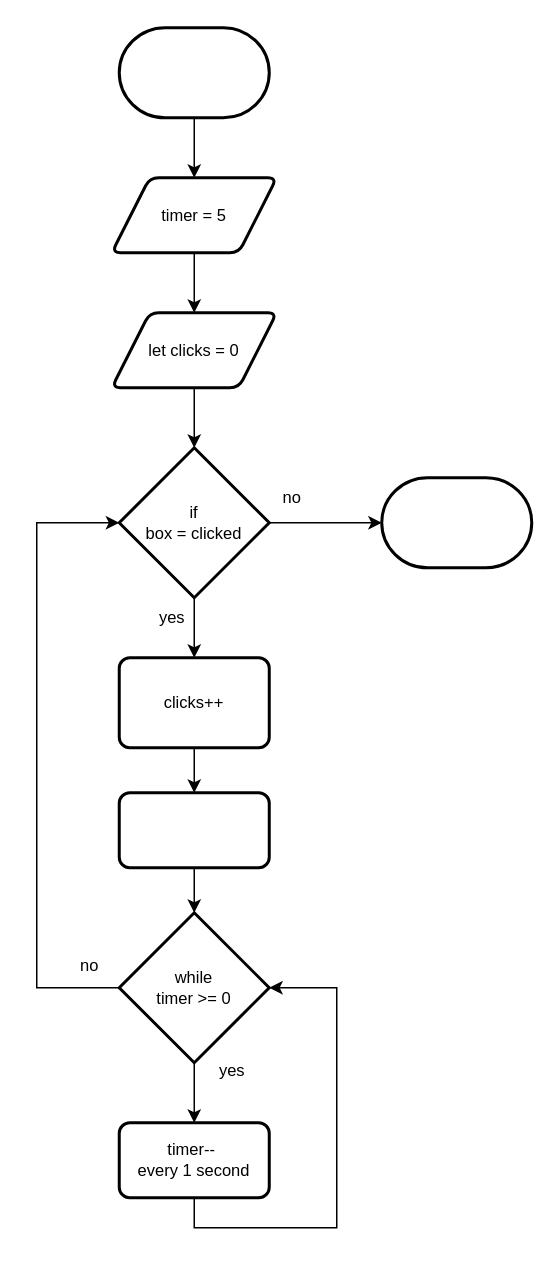
Image size: 560x1266. Some labels were removed from this diagram. Here are the shapes that lost their labels. From the top down, the centre of each, then its label:
point 193,72: Start
point 456,522: Stop
point 193,829: start timer
